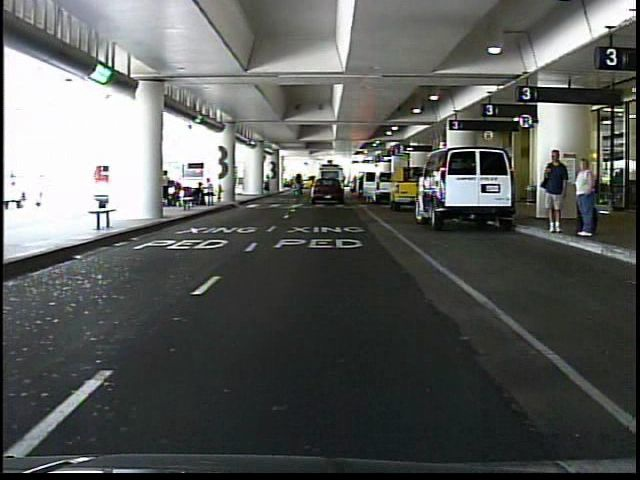person: (569, 151, 602, 243), (541, 146, 570, 237), (348, 169, 363, 201), (264, 169, 275, 194)
